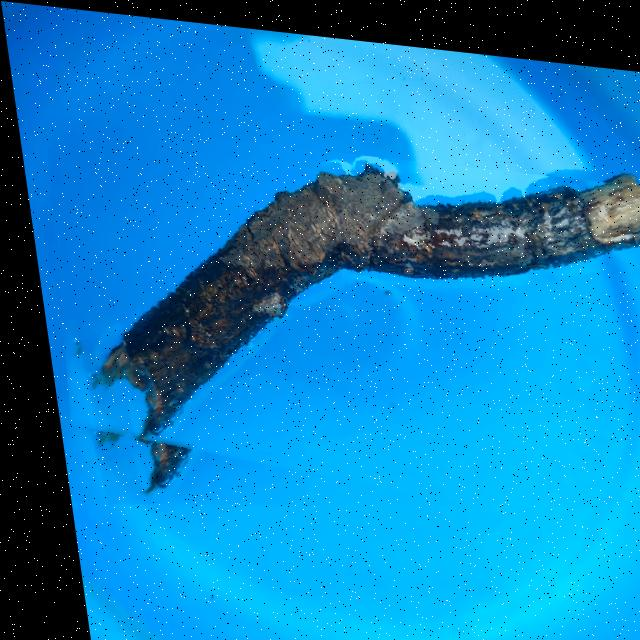wood: (24, 117, 640, 539)
